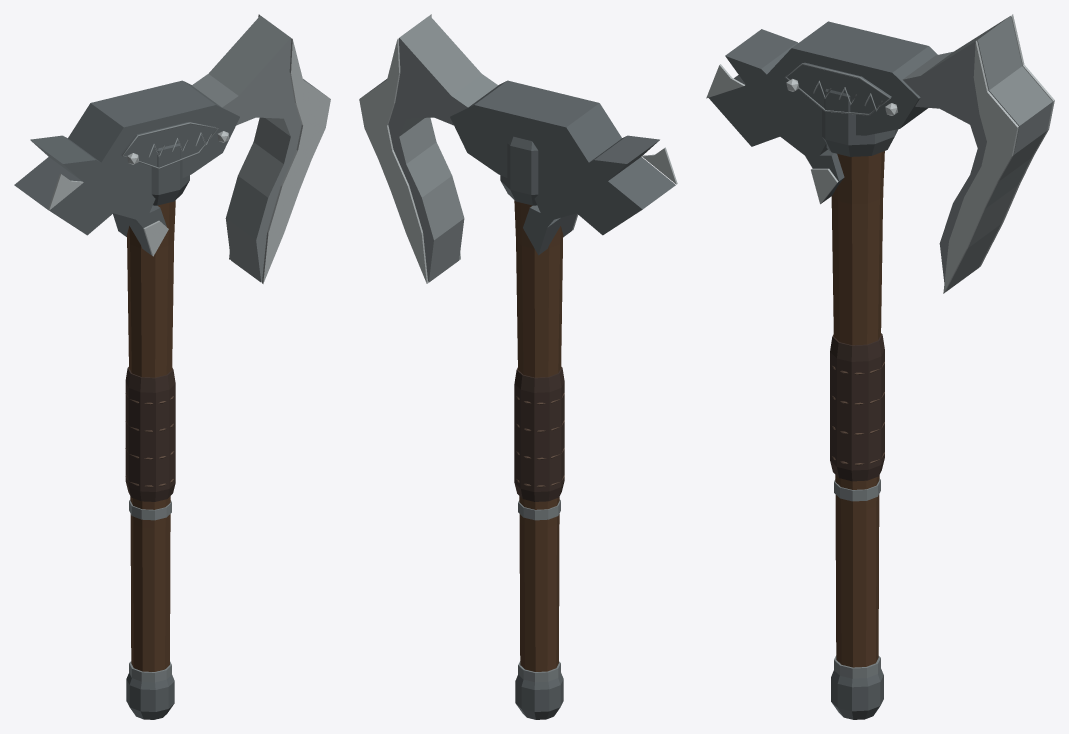
The model's file is starter_axe.glb.
The picture shows the model from 3 angles, left to right: view 1: azimuth 30°, elevation 25°; view 2: azimuth 150°, elevation 25°; view 3: azimuth 330°, elevation 25°; orthographic projection. The views are drawn at different scales.
Visible parts, largest first — view 1: 08 | Forged poll and hook, 09 | Swept crescent blade, 01 | Dark hardwood haft, 02 | Leather handgrip, 10 | Honed crescent edge front, 14 | Inset forged plate, 07 | Steel pommel, 17 | Reinforced head socket, 12 | Pick cutting bevel, 13 | Hook cutting bevel; view 2: 08 | Forged poll and hook, 09 | Swept crescent blade, 01 | Dark hardwood haft, 02 | Leather handgrip, 11 | Honed crescent edge reverse, 17 | Reinforced head socket, 07 | Steel pommel, 12 | Pick cutting bevel; view 3: 01 | Dark hardwood haft, 08 | Forged poll and hook, 09 | Swept crescent blade, 02 | Leather handgrip, 10 | Honed crescent edge front, 17 | Reinforced head socket, 14 | Inset forged plate, 07 | Steel pommel, 11 | Honed crescent edge reverse, 13 | Hook cutting bevel, 12 | Pick cutting bevel, 06 | Butt ferrule (+1 smaller).
Part boxes in pixels (x1,y1,x2,y2): 08 | Forged poll and hook: (14, 80, 239, 255); 09 | Swept crescent blade: (192, 15, 325, 282); 01 | Dark hardwood haft: (127, 200, 175, 671); 02 | Leather handgrip: (125, 367, 175, 501); 10 | Honed crescent edge front: (262, 38, 330, 283); 14 | Inset forged plate: (121, 122, 216, 166); 07 | Steel pommel: (126, 673, 174, 719); 17 | Reinforced head socket: (151, 143, 189, 205); 12 | Pick cutting bevel: (48, 173, 83, 210); 13 | Hook cutting bevel: (143, 220, 168, 256); 08 | Forged poll and hook: (450, 80, 675, 255); 09 | Swept crescent blade: (364, 15, 497, 282); 01 | Dark hardwood haft: (514, 200, 563, 671); 02 | Leather handgrip: (514, 367, 564, 501); 11 | Honed crescent edge reverse: (359, 38, 428, 283); 17 | Reinforced head socket: (500, 136, 538, 205); 07 | Steel pommel: (515, 673, 563, 719); 12 | Pick cutting bevel: (642, 147, 677, 184); 01 | Dark hardwood haft: (831, 151, 884, 667); 08 | Forged poll and hook: (708, 21, 937, 202); 09 | Swept crescent blade: (902, 16, 1052, 292); 02 | Leather handgrip: (830, 333, 884, 481); 10 | Honed crescent edge front: (943, 40, 1018, 293); 17 | Reinforced head socket: (822, 89, 898, 156); 14 | Inset forged plate: (787, 62, 891, 113); 07 | Steel pommel: (831, 668, 883, 719); 11 | Honed crescent edge reverse: (979, 14, 1054, 267); 13 | Hook cutting bevel: (811, 168, 838, 204); 12 | Pick cutting bevel: (706, 64, 744, 98); 06 | Butt ferrule: (834, 655, 880, 678).
Bounding box in the file's own units: 1.08 × 2.38 × 0.2794.
